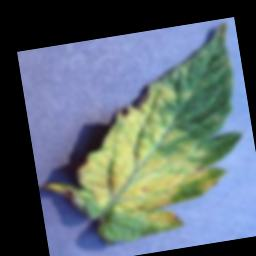Leaf_Mold: (27, 68, 236, 253)
